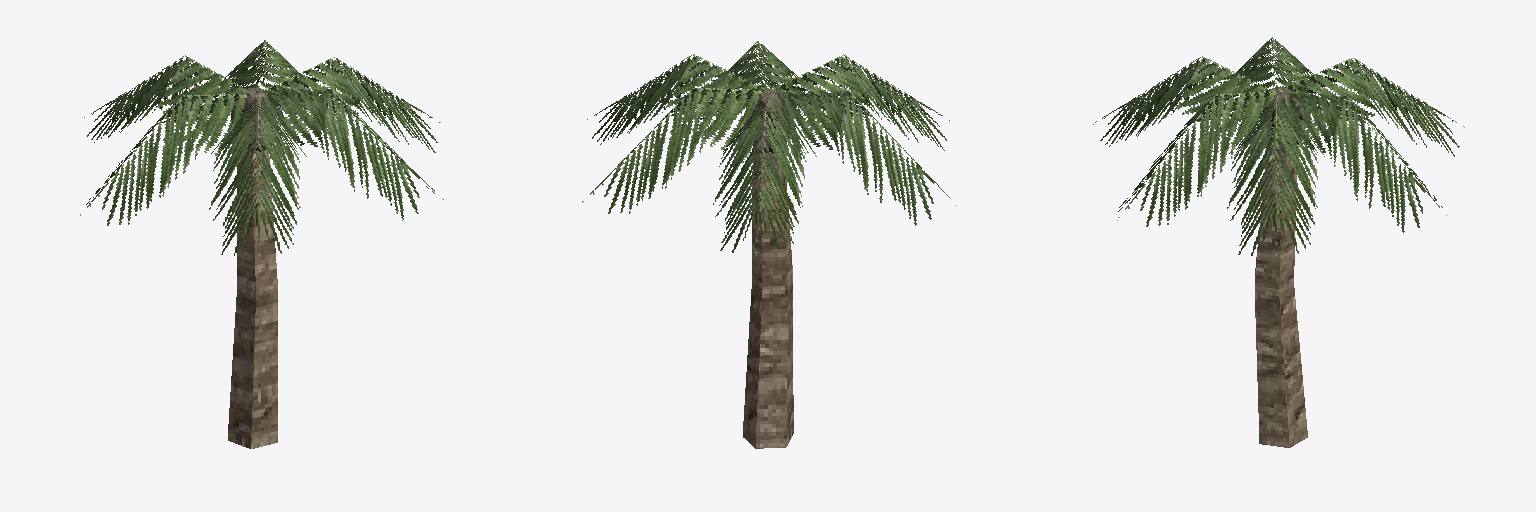
3 renders of one model, left to right at view 1: azimuth 30°, elevation 25°; view 2: azimuth 150°, elevation 25°; view 3: azimuth 270°, elevation 25°, orthographic.
Visible parts, largest first — view 1: palm_0; view 2: palm_0; view 3: palm_0.
Part boxes in pixels (x1,y1,x2,y2): palm_0: (80, 40, 443, 448); palm_0: (582, 41, 956, 448); palm_0: (1093, 37, 1464, 447).
Bounding box in the file's own units: 4.4 × 4.13 × 3.84.
Materials: 3 (3 with a texture image).